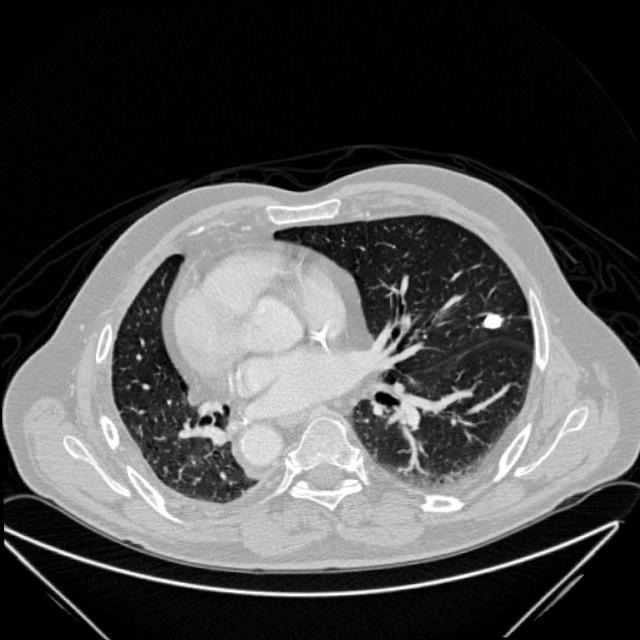nodule: (476, 302, 512, 338)
